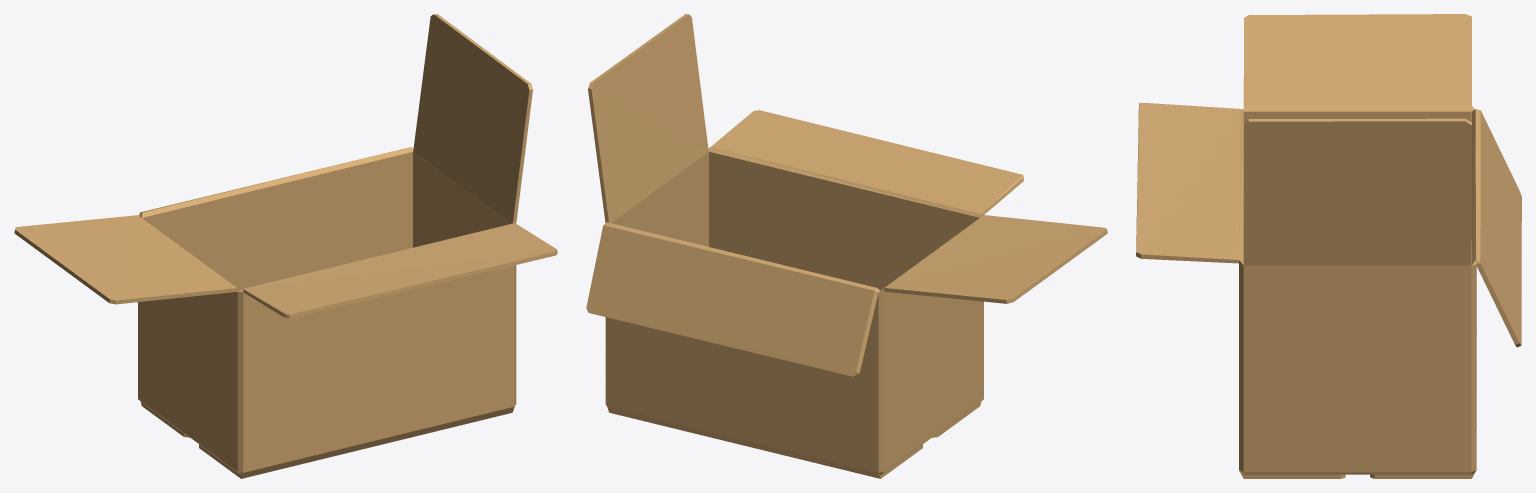
The picture shows the model from 3 angles, left to right: view 1: azimuth 30°, elevation 25°; view 2: azimuth 150°, elevation 25°; view 3: azimuth 270°, elevation 25°; orthographic projection. The views are drawn at different scales.
Visible parts, largest first — view 1: node_MeshObject-1473495040-PolyPaper21; view 2: node_MeshObject-1473495040-PolyPaper21; view 3: node_MeshObject-1473495040-PolyPaper21.
Boxes of the visible parts, x1,y1,x2,y2 form: node_MeshObject-1473495040-PolyPaper21: [14, 14, 557, 478]; node_MeshObject-1473495040-PolyPaper21: [586, 14, 1107, 478]; node_MeshObject-1473495040-PolyPaper21: [1136, 14, 1521, 478].
Bounding box in the file's own units: 1.15 × 0.842 × 0.795.
